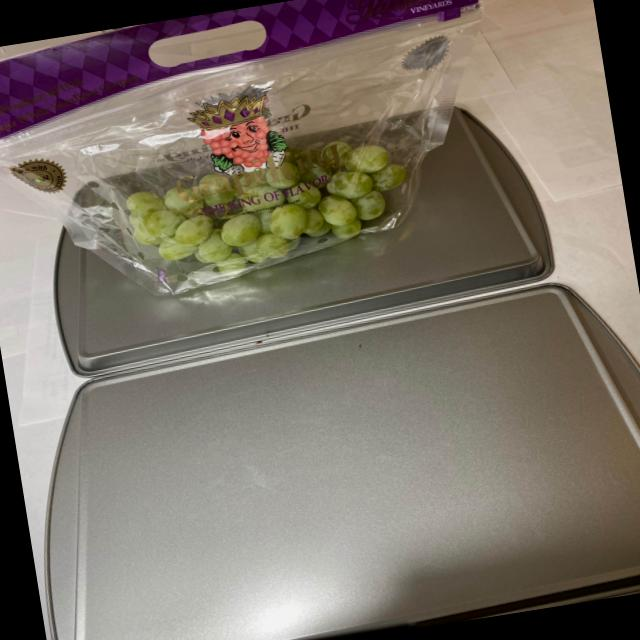grapes: (114, 120, 438, 298)
